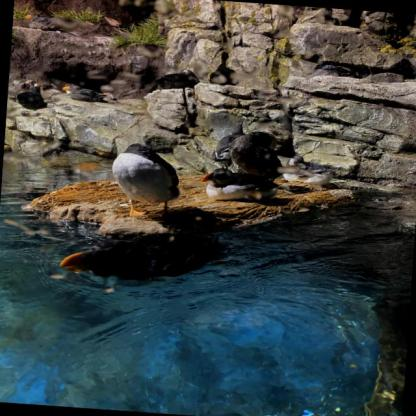puffin: (58, 224, 230, 288), (109, 139, 183, 220), (229, 128, 308, 177), (200, 167, 284, 205), (211, 128, 254, 175), (151, 65, 201, 93), (14, 76, 48, 110), (62, 81, 110, 102)
